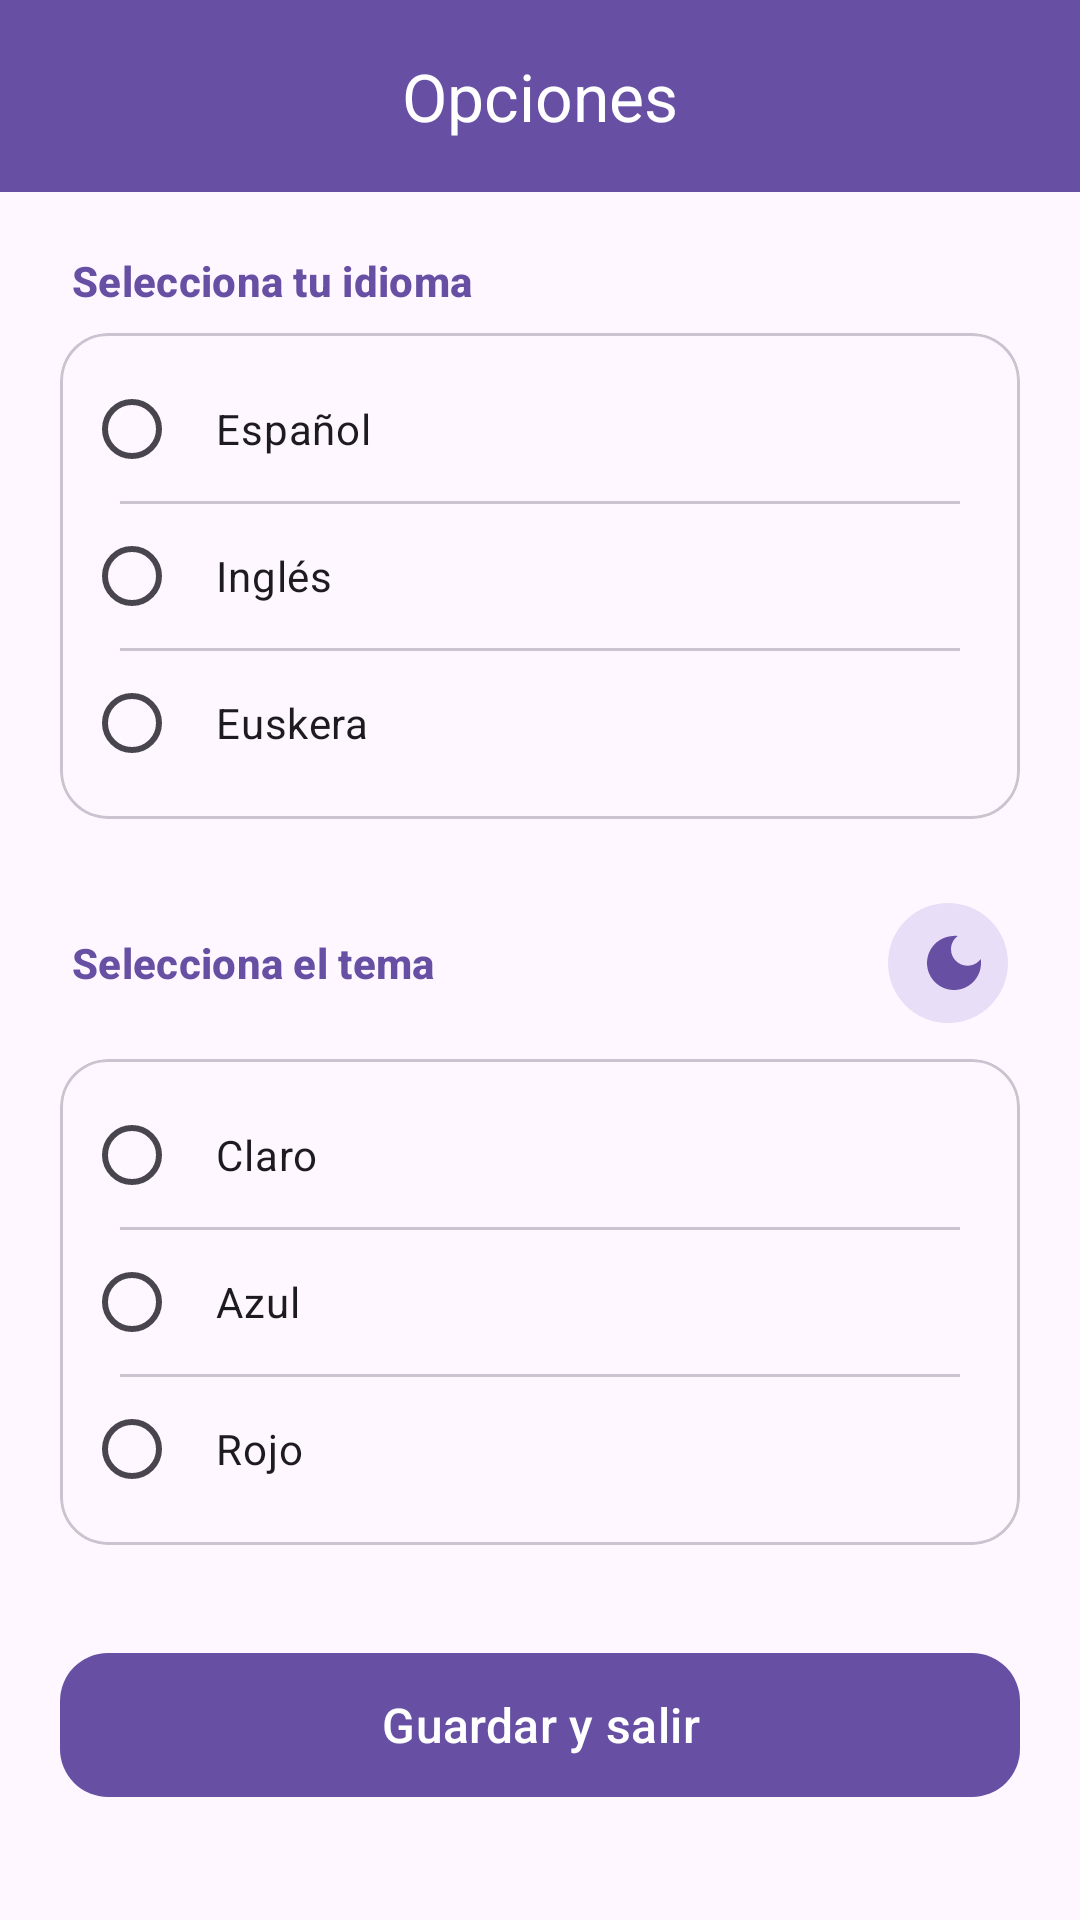

Icon bounding boxes for this 1080px x 1920px phone screenshot, format (x1, y1, x2, y2):
moon: (888, 903, 1008, 1023)
